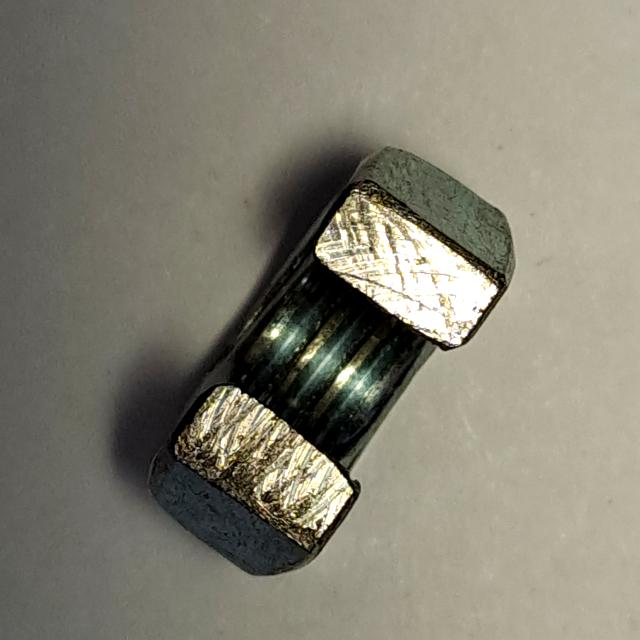Side-Fracture: (134, 128, 530, 598)
